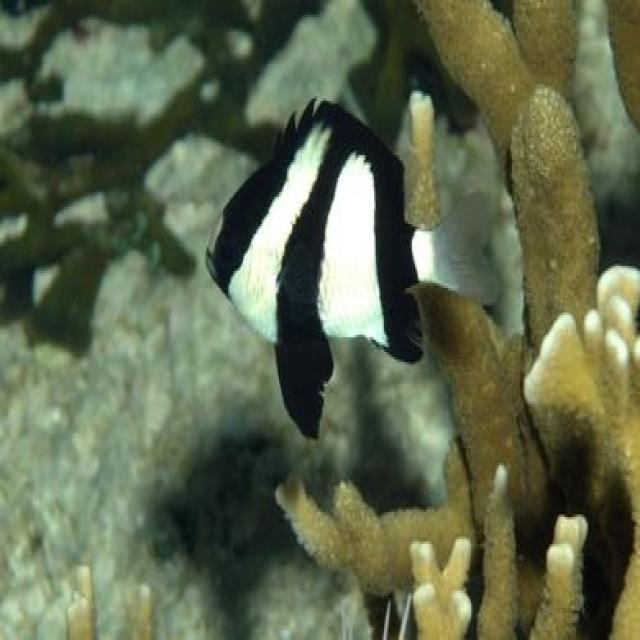ThreeStripedDamselfish: (205, 98, 497, 438)
